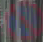No waiting: (5, 2, 42, 40)
